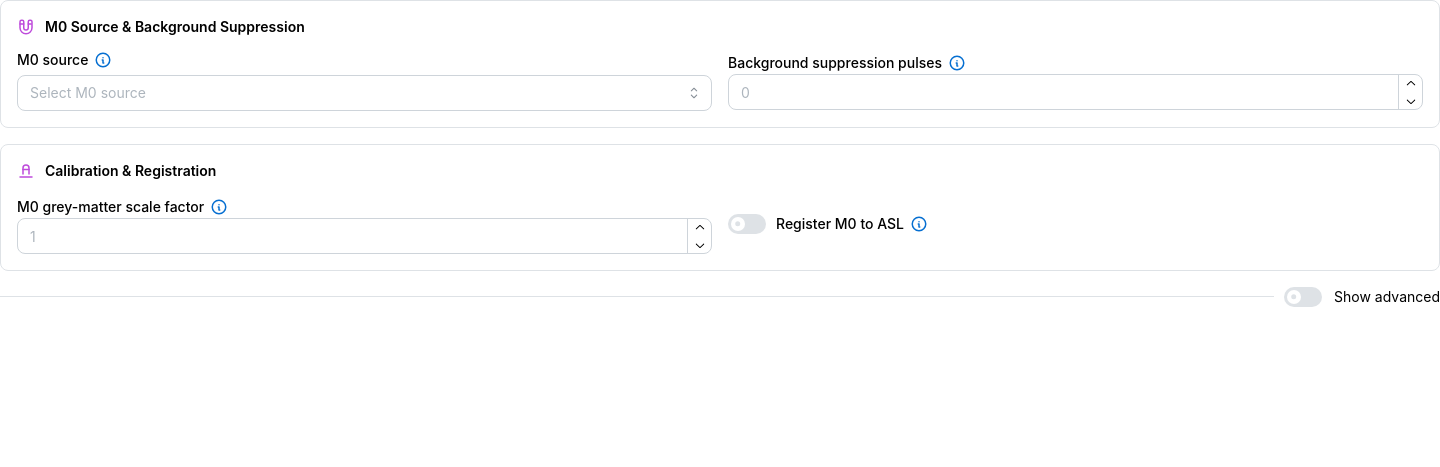
Scenario: M0Section › shows advanced fields when advanced is toggled on
The image size is (1440, 467).
Click the checkbox labelled "Show advanced" at (1362, 297), box [1284,287,1439,307]
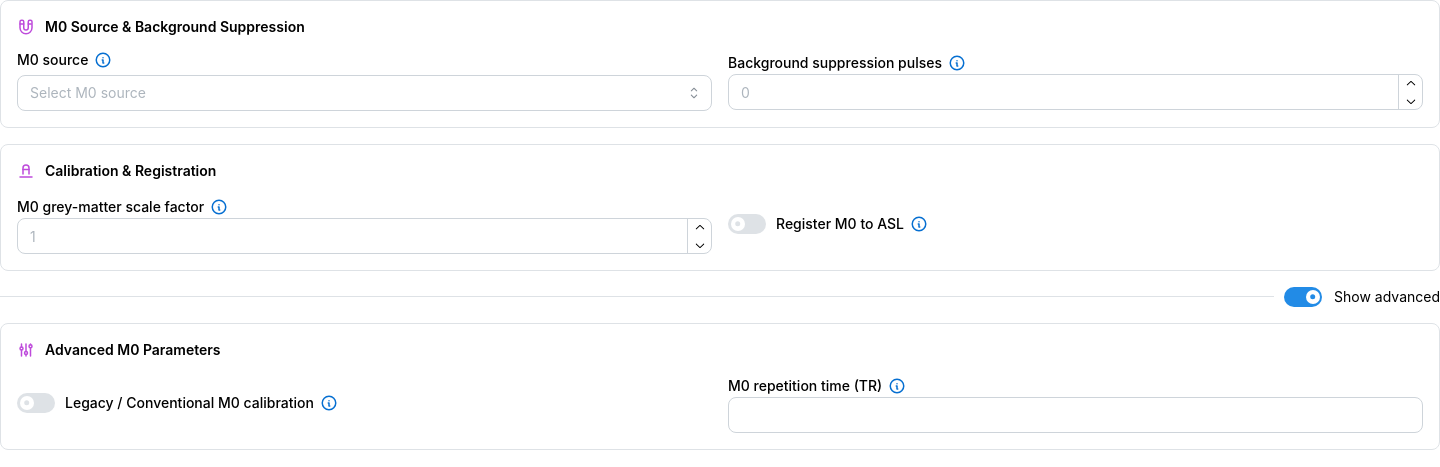
Check: the text "Legacy / Conventional M0 calibration" is shown, box [65,394,314,411]
Check: the text "M0 repetition time (TR)" is shown, box [728,376,882,396]
